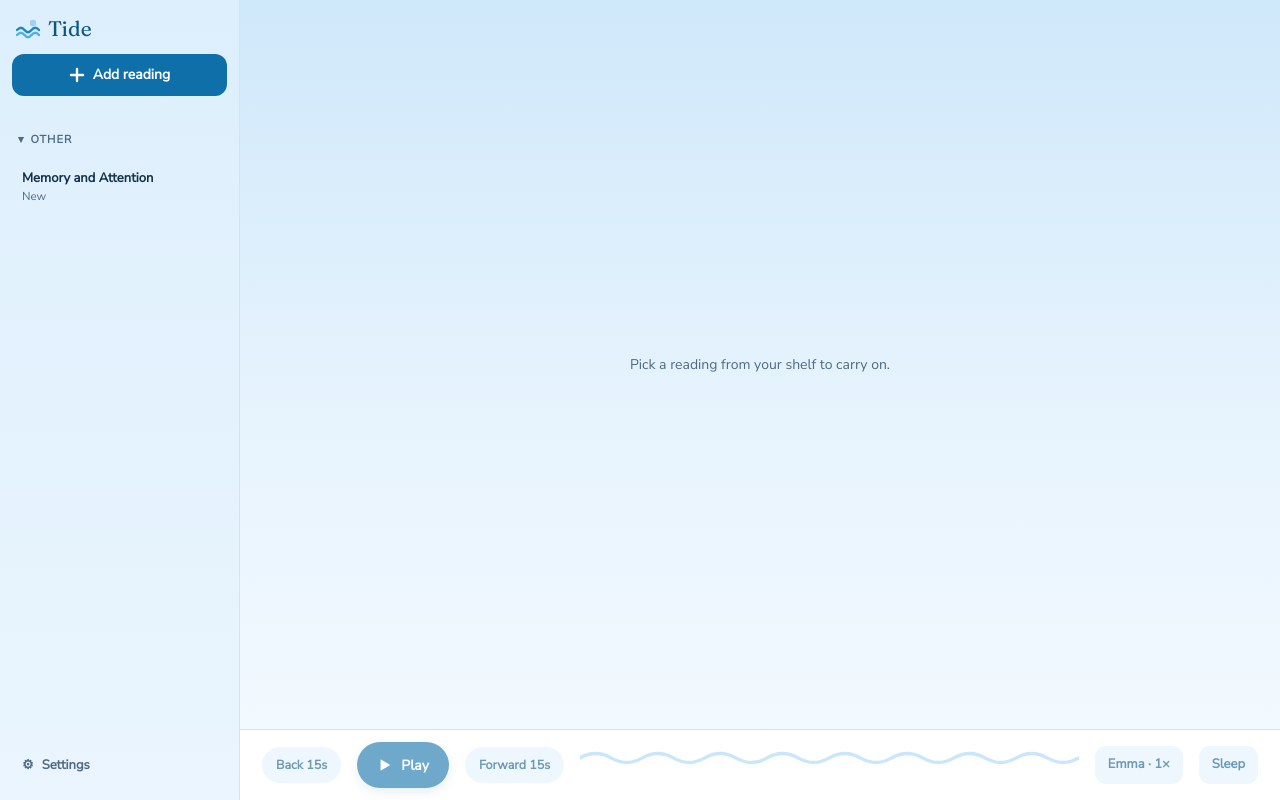
Test: Save as audio panel › from the More menu it picks the whole reading and says it saves an audiobook
The image size is (1280, 800).
Click the button "Memory and Attention New" at (120, 187), box x1=12 y1=162 x2=227 y2=212
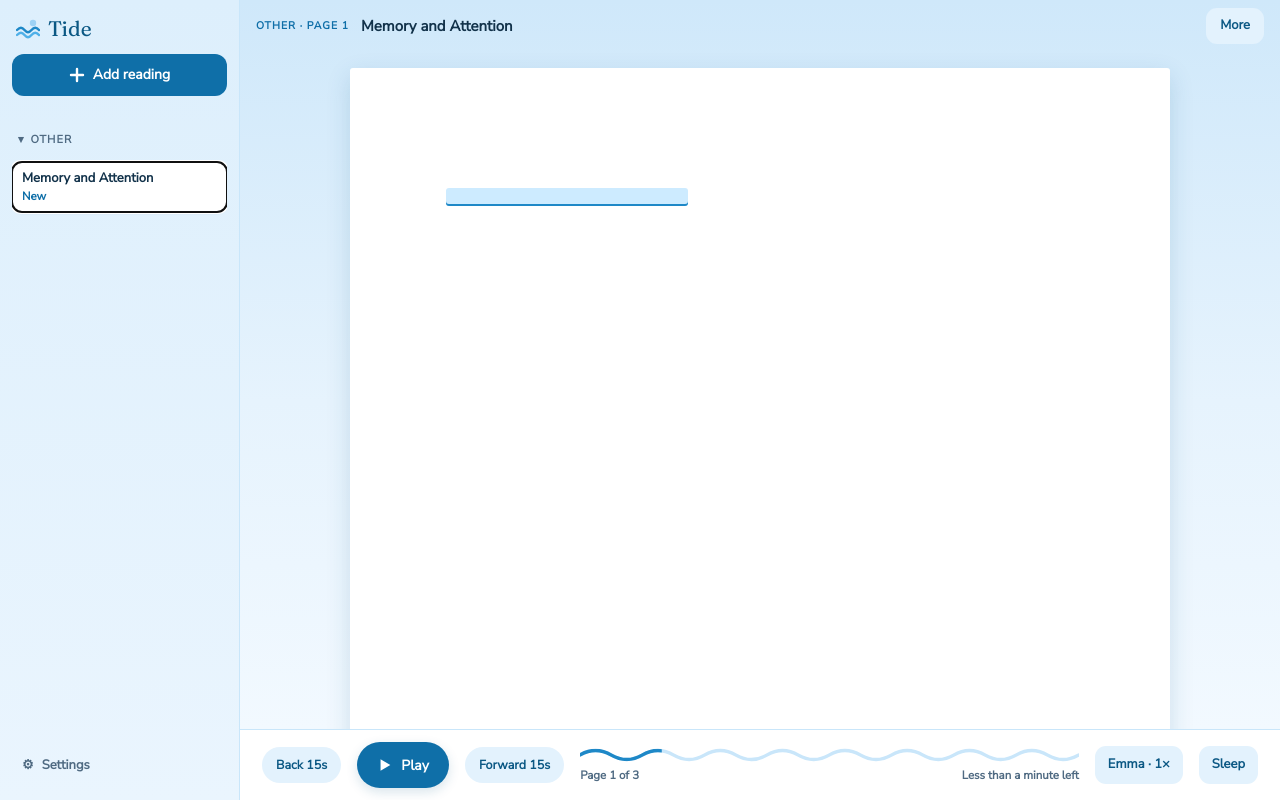
Result: the element with test id "sentence-highlight" is shown at x1=446 y1=188 x2=688 y2=206
Click the button with aria-label "More options for" at (1235, 26), box x1=1206 y1=8 x2=1264 y2=44
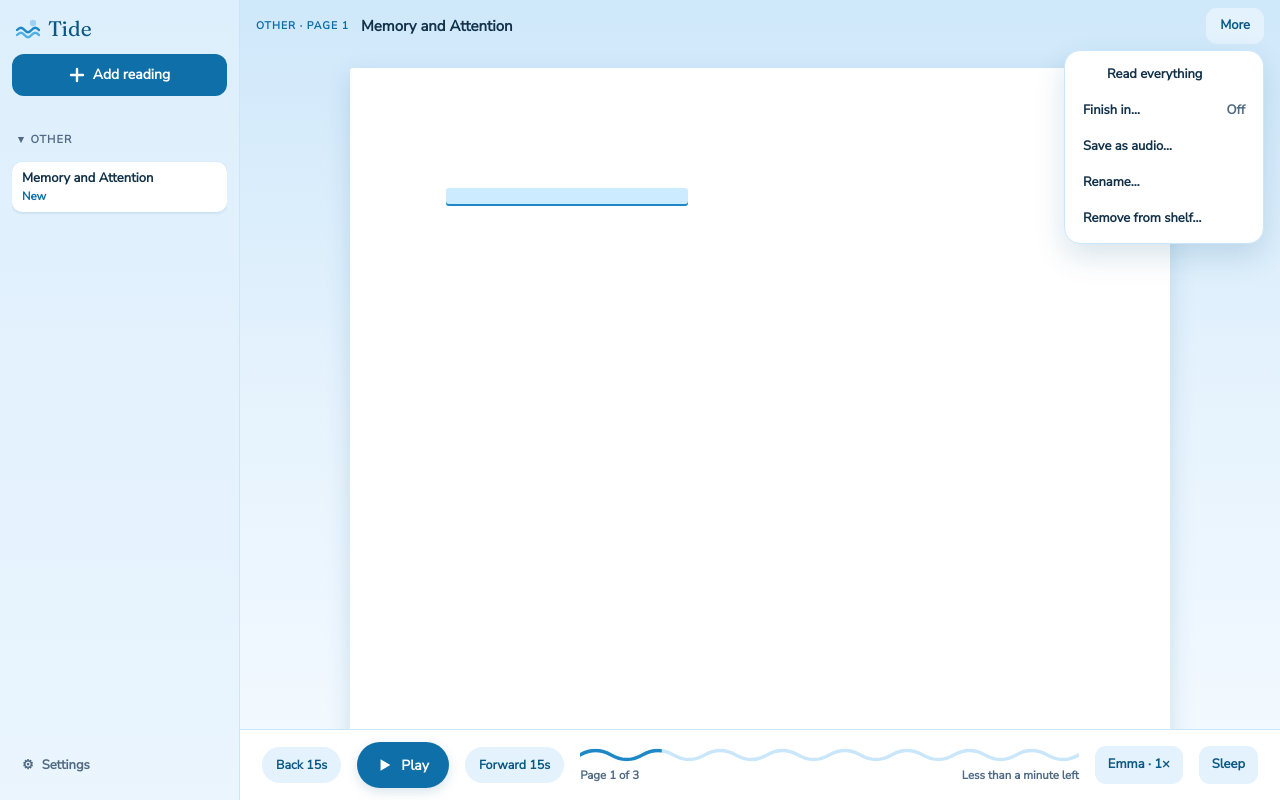
Click the menu item "Save as audio…" at (1127, 146), box x1=1083 y1=137 x2=1172 y2=155
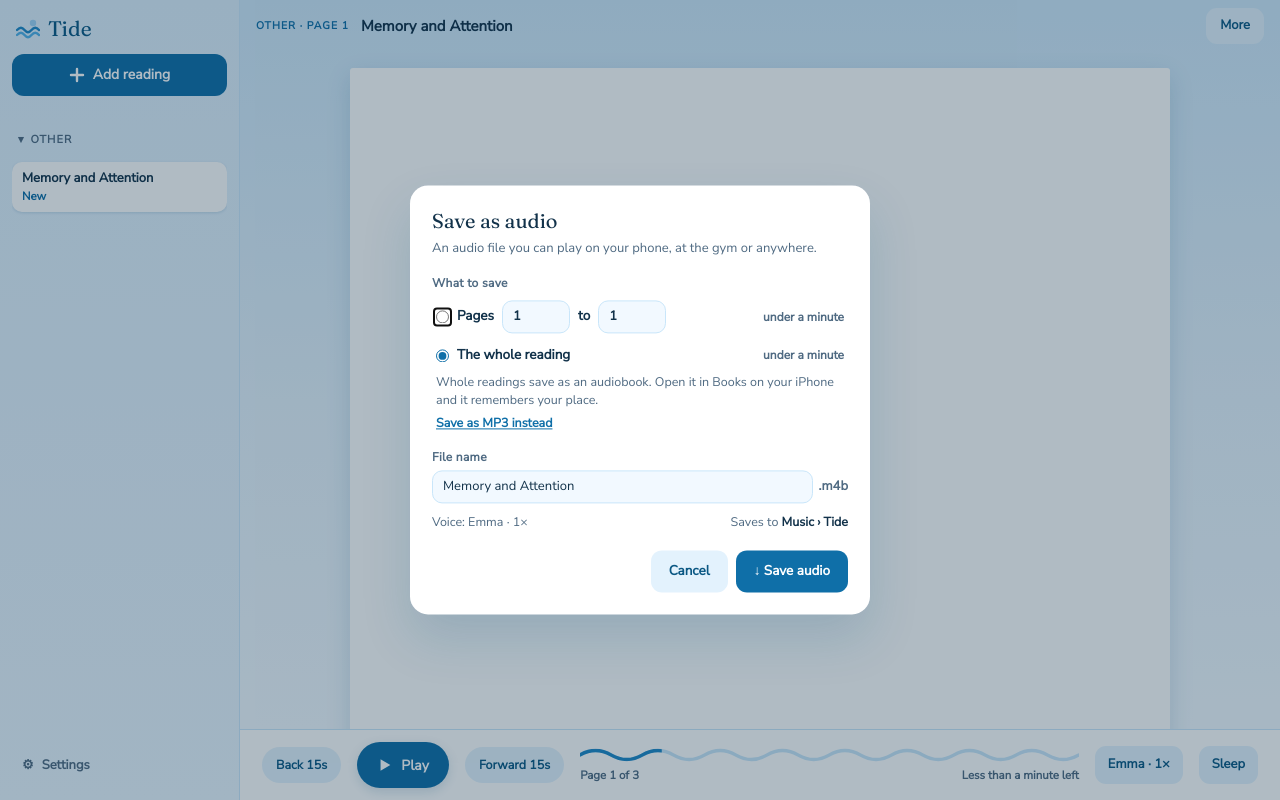
Result: the radio button labelled "The whole reading under a minute" is checked at x1=436 y1=349 x2=449 y2=362
Result: the text "Whole readings save as an audiobook. Open it in Books on your iPhone and it remembers your place." is shown at x1=436 y1=374 x2=834 y2=409
Result: the text ".m4b" is shown at x1=818 y1=477 x2=848 y2=497
